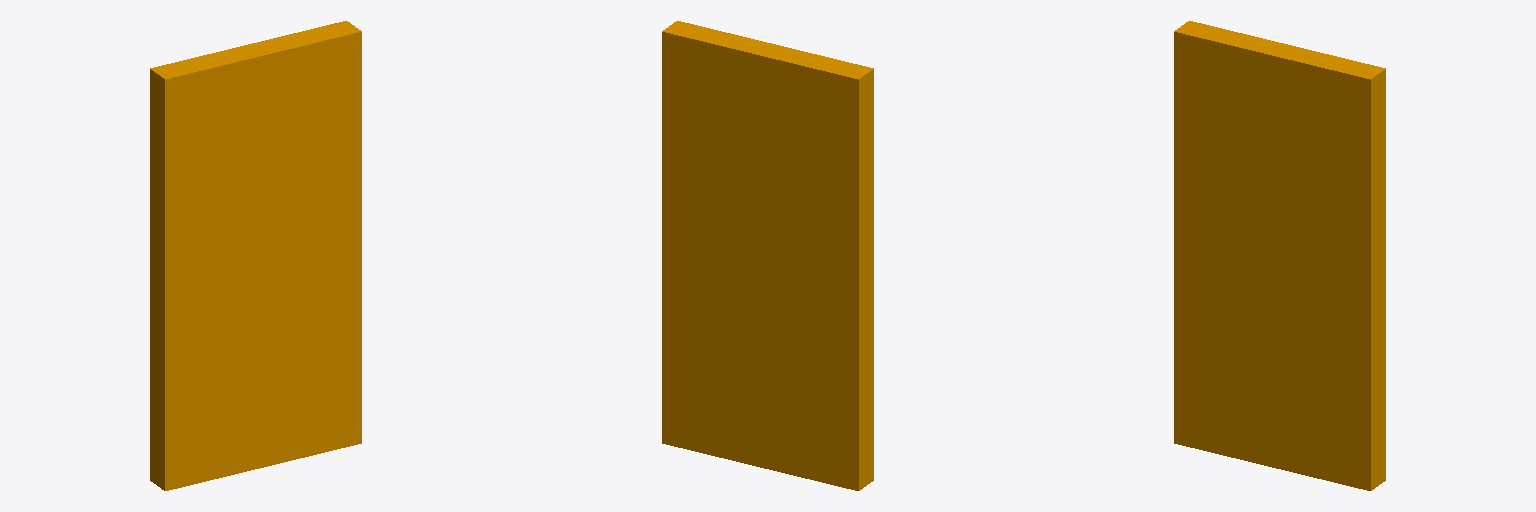
URDF robot description (sand):
<?xml version="1.0" ?>
<robot name="sand">
    <link name="base">
        <contact>
            <lateral_friction value="1"/>
        </contact>
        <inertial>
            <origin rpy="0 0 0" xyz="0 0 0"/>
            <mass value=".0"/>
            <inertia ixx="0" ixy="0" ixz="0" iyy="0" iyz="0" izz="0"/>
        </inertial>

        <visual>
            <origin rpy="0 0 0" xyz="-0.75 5.1 1.5"/>
            <geometry>
                <box size="1.5 0.2 3"/>
            </geometry>
        </visual>

        <collision>
            <origin rpy="0 0 0" xyz="-0.75 5.1 1.5"/>
            <geometry>
                <box size="1.5 0.2 3"/>
            </geometry>
        </collision>

    </link>
</robot>

--- What the picture shows (computed from the rendered views, not written in the file) ---
The picture shows the robot from 3 angles, left to right: view 1: azimuth 30°, elevation 25°; view 2: azimuth 150°, elevation 25°; view 3: azimuth 330°, elevation 25°; orthographic projection.
Model sand with 1 links and 0 joints (none), rooted at base, posed every joint at zero.
Links seen in each view (by area): view 1: base; view 2: base; view 3: base.
Boxes of the visible links, <box> form: base: <box>150,21,361,490</box>; base: <box>662,21,873,490</box>; base: <box>1174,21,1385,490</box>.
Bounding box of the posed robot: 1.5 × 0.2 × 3 m (x, y, z).
Geometry: primitives only (box / cylinder / sphere), no mesh files.
